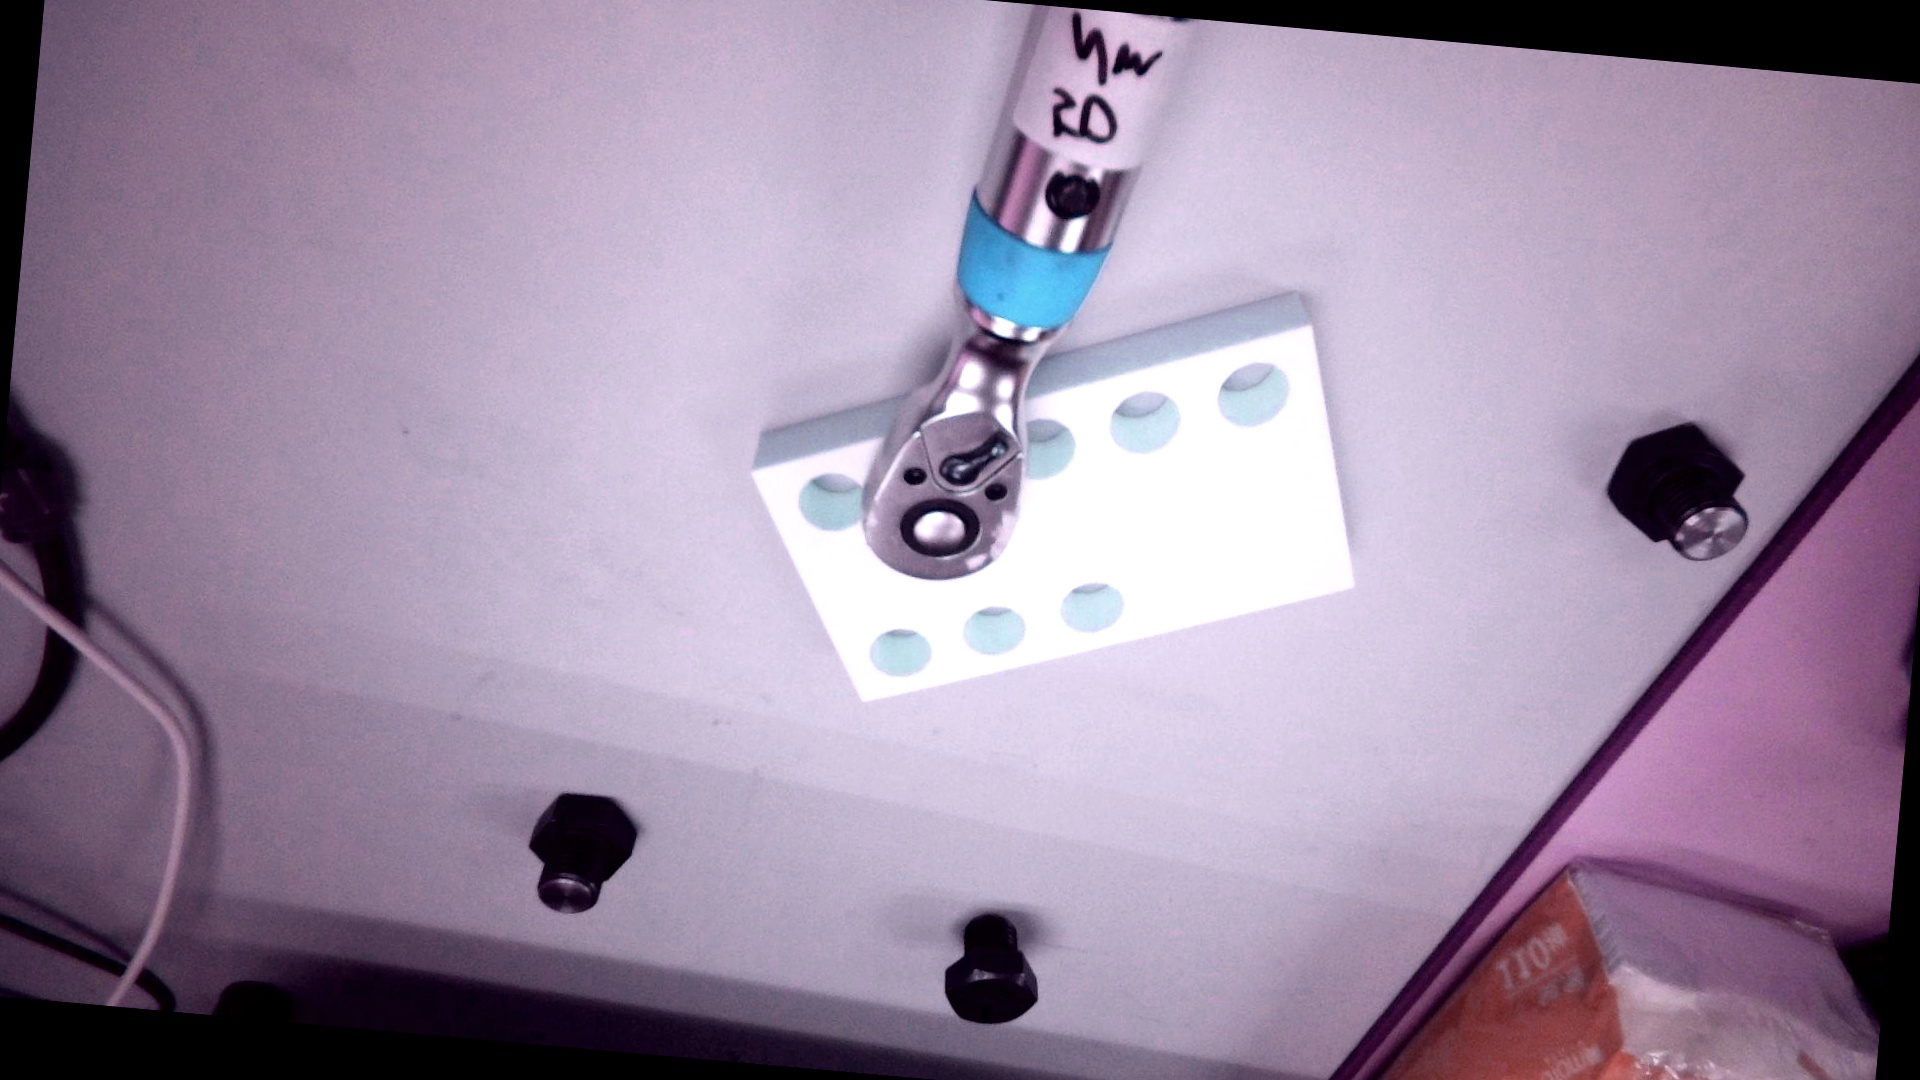hole: (1215, 357, 1294, 430), (1106, 386, 1182, 456), (795, 469, 866, 535), (1015, 415, 1077, 481), (1058, 578, 1126, 636), (959, 603, 1029, 658), (866, 624, 934, 679)
obj: (732, 243, 1382, 744)
wrench: (897, 493, 982, 560)
